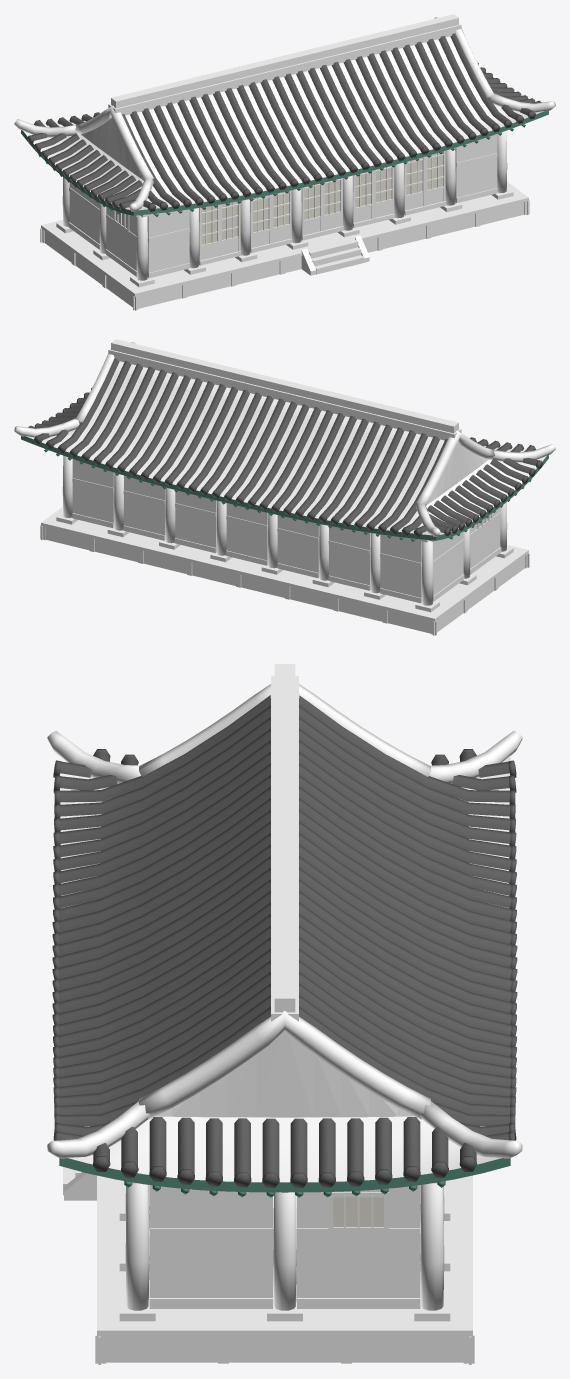
File: v_sbang.glb
The picture shows the model from 3 angles, top to bottom: view 1: azimuth 30°, elevation 25°; view 2: azimuth 150°, elevation 25°; view 3: azimuth 270°, elevation 25°; orthographic projection. The views are drawn at different scales.
Parts seen in each view (by area): view 1: v_sbang_giwa_row, v_sbang_giwa, v_sbang_red, v_sbang_granite, v_sbang_plaster, v_sbang_plinth, v_sbang_paper, v_sbang_green; view 2: v_sbang_giwa_row, v_sbang_giwa, v_sbang_plaster, v_sbang_red, v_sbang_granite, v_sbang_plinth, v_sbang_green; view 3: v_sbang_giwa_row, v_sbang_giwa, v_sbang_red, v_sbang_plaster, v_sbang_granite, v_sbang_plinth, v_sbang_green, v_sbang_paper.
Part boxes in pixels (box(x1,y1,x2,y2)): v_sbang_giwa_row: box(27, 33, 541, 211); v_sbang_giwa: box(14, 14, 555, 211); v_sbang_red: box(62, 118, 507, 280); v_sbang_granite: box(40, 182, 529, 310); v_sbang_plaster: box(69, 134, 497, 272); v_sbang_plinth: box(44, 202, 523, 308); v_sbang_paper: box(115, 151, 442, 244); v_sbang_green: box(21, 111, 548, 216); v_sbang_giwa_row: box(28, 358, 542, 536); v_sbang_giwa: box(14, 339, 555, 536); v_sbang_plaster: box(72, 459, 500, 597); v_sbang_red: box(62, 443, 507, 605); v_sbang_granite: box(40, 507, 529, 635); v_sbang_plinth: box(45, 527, 525, 633); v_sbang_green: box(21, 436, 548, 541); v_sbang_giwa_row: box(52, 695, 517, 1187); v_sbang_giwa: box(47, 664, 522, 1182); v_sbang_red: box(125, 1030, 444, 1310); v_sbang_plaster: box(149, 1185, 420, 1297); v_sbang_granite: box(64, 1172, 474, 1364); v_sbang_plinth: box(63, 1167, 463, 1362); v_sbang_green: box(59, 1158, 510, 1197); v_sbang_paper: box(333, 1197, 383, 1226).
Size of the model in its own units: 10.67 by 4.08 by 5.16.
